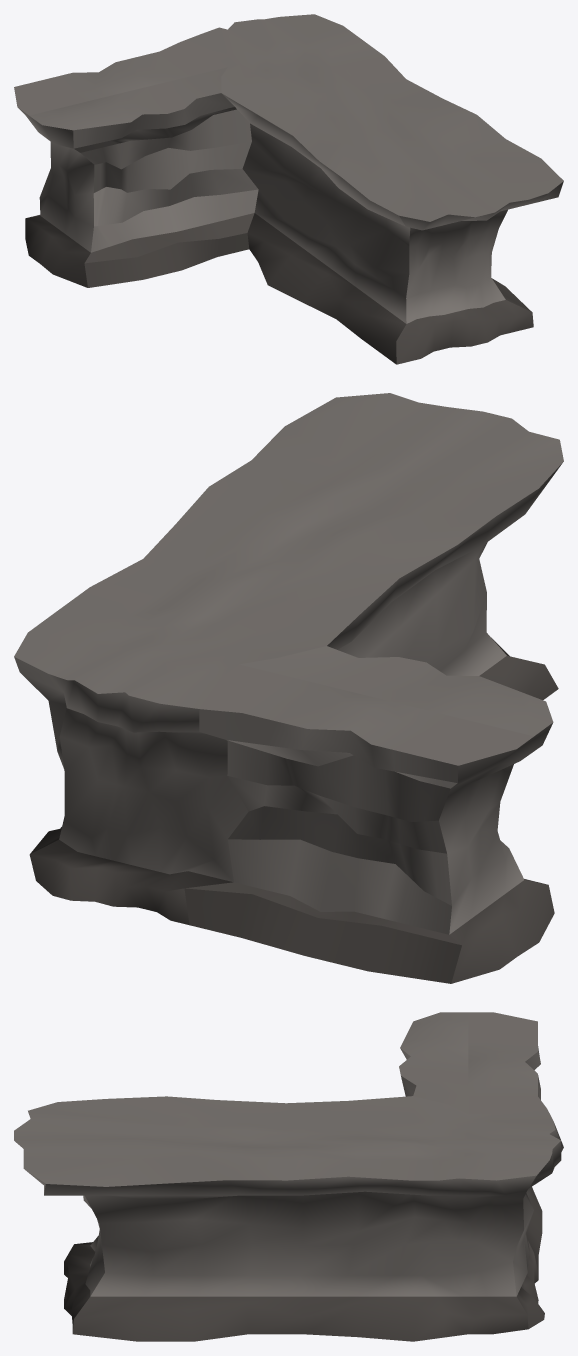
Rendered from Wall2_asset.fbx.
3 renders of one model, top to bottom at view 1: azimuth 30°, elevation 25°; view 2: azimuth 150°, elevation 25°; view 3: azimuth 270°, elevation 25°, orthographic. The views are drawn at different scales.
Parts seen in each view (by area): view 1: Wall2_Asset; view 2: Wall2_Asset; view 3: Wall2_Asset.
Boxes of the visible parts, left/top/right/bottom form: Wall2_Asset: left=14, top=14, right=563, bottom=364; Wall2_Asset: left=14, top=393, right=563, bottom=983; Wall2_Asset: left=14, top=1012, right=563, bottom=1341.
Bounding box in the file's own units: 9.26 × 4.02 × 12.32.
